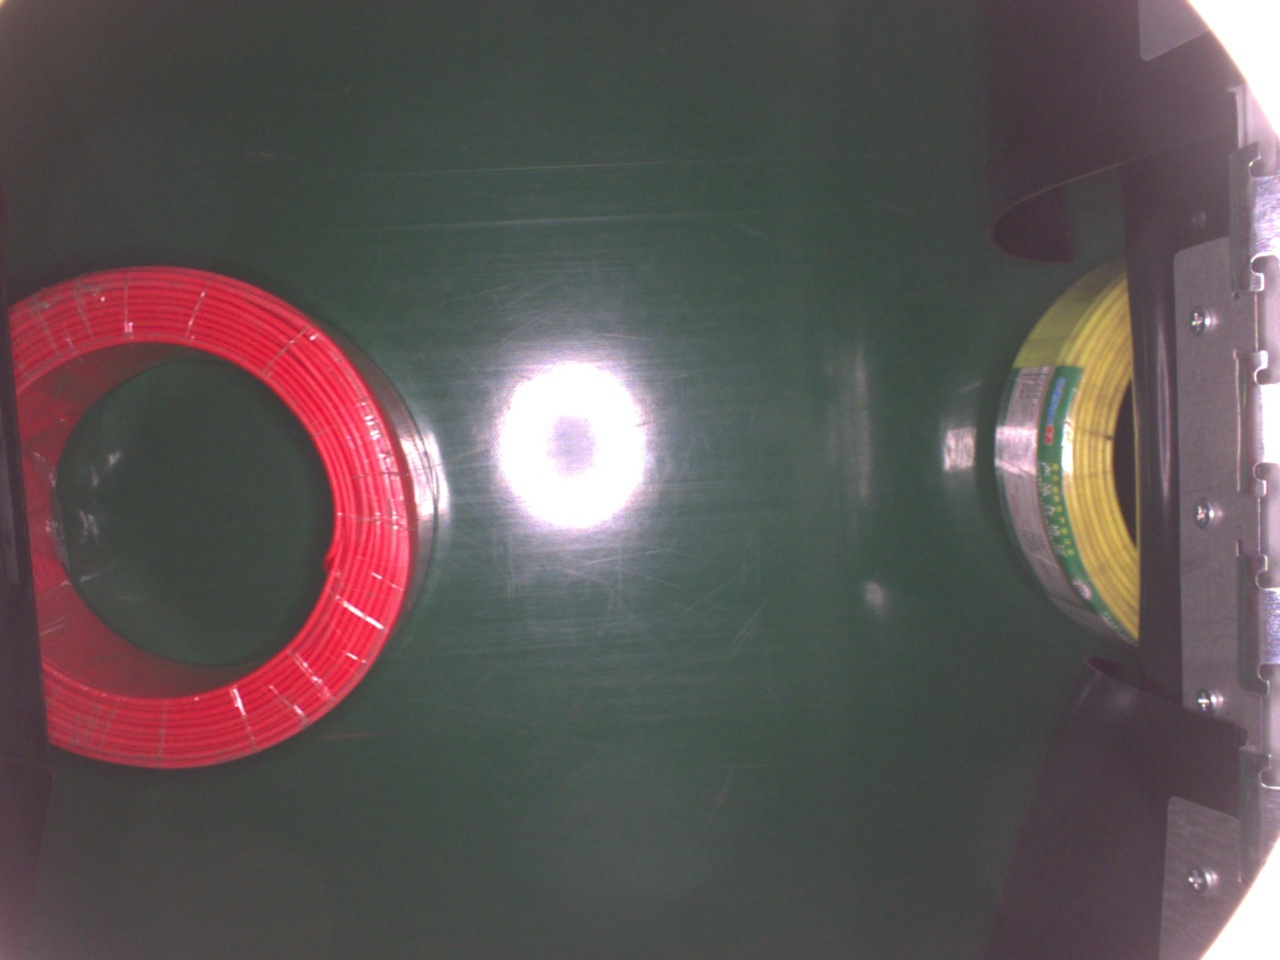red: (8, 262, 443, 782)
yellow: (991, 250, 1136, 646)
